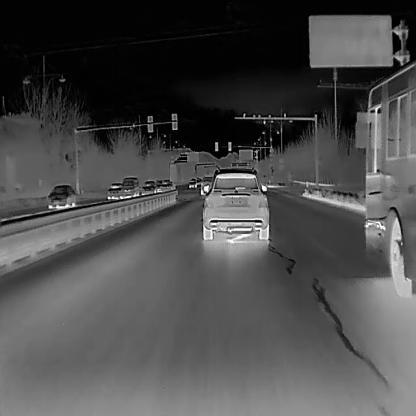car: (354, 56, 416, 297), (201, 164, 269, 240), (46, 184, 76, 208), (121, 177, 139, 198), (106, 180, 122, 199), (200, 175, 211, 195), (140, 181, 156, 194), (162, 178, 172, 191), (187, 177, 197, 188), (154, 178, 161, 192)
